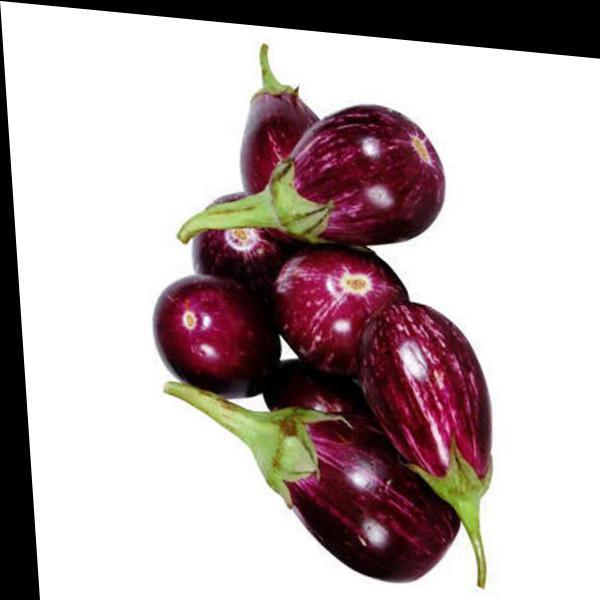eggplant: (83, 21, 570, 599), (342, 245, 522, 592), (216, 72, 463, 255), (123, 238, 290, 428)
